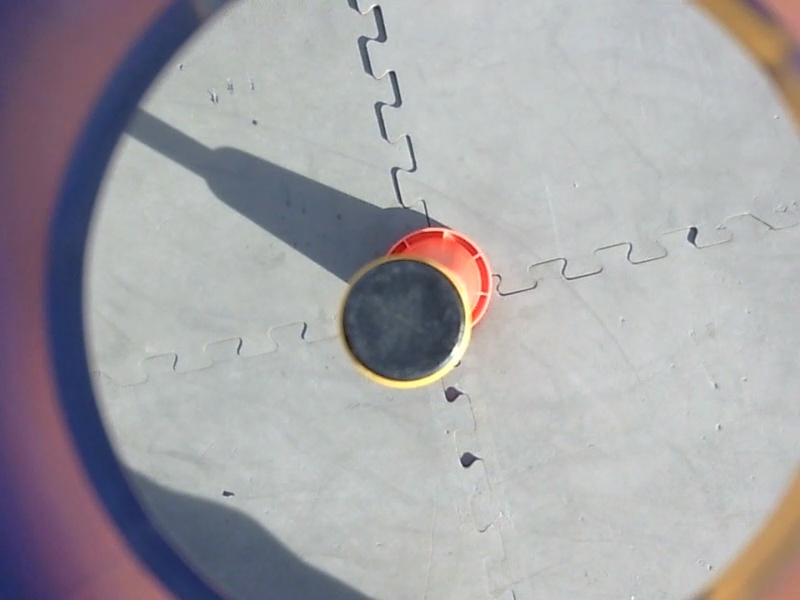tip: (332, 251, 477, 395)
